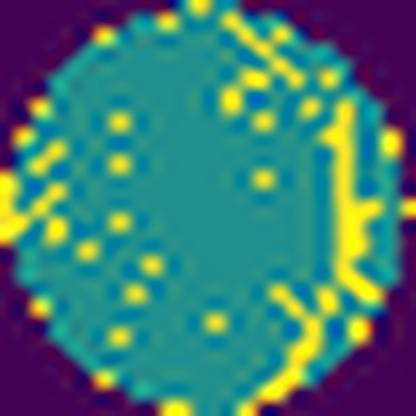Scratch: (228, 92, 390, 416), (214, 11, 309, 115)
